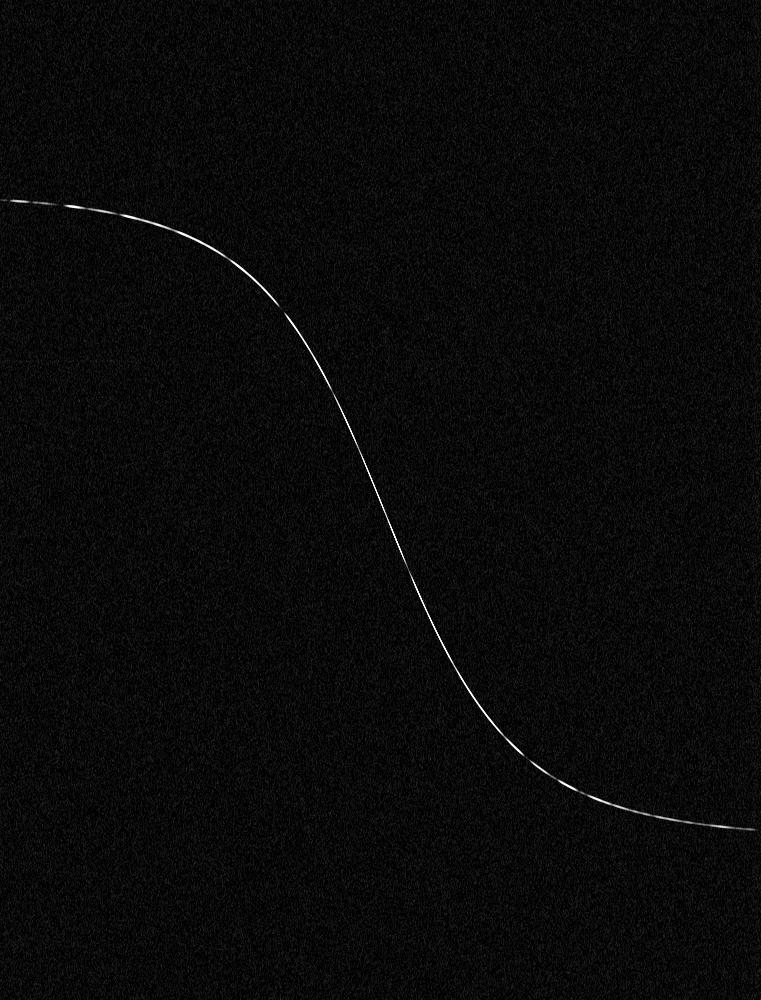signal: (0, 0, 760, 999)
